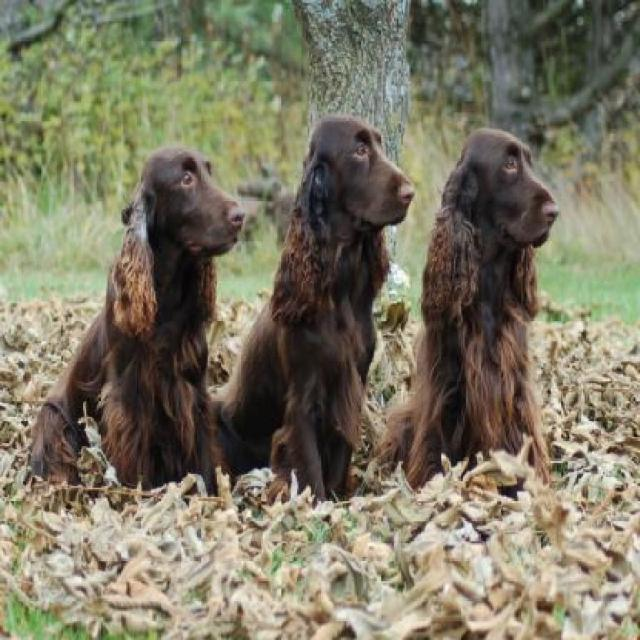animals: (36, 129, 255, 526), (242, 96, 420, 496), (416, 105, 570, 508)
